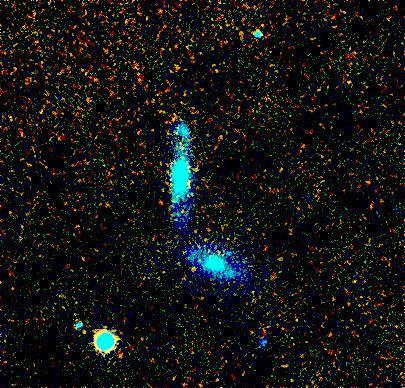star: (177, 254, 207, 284)
